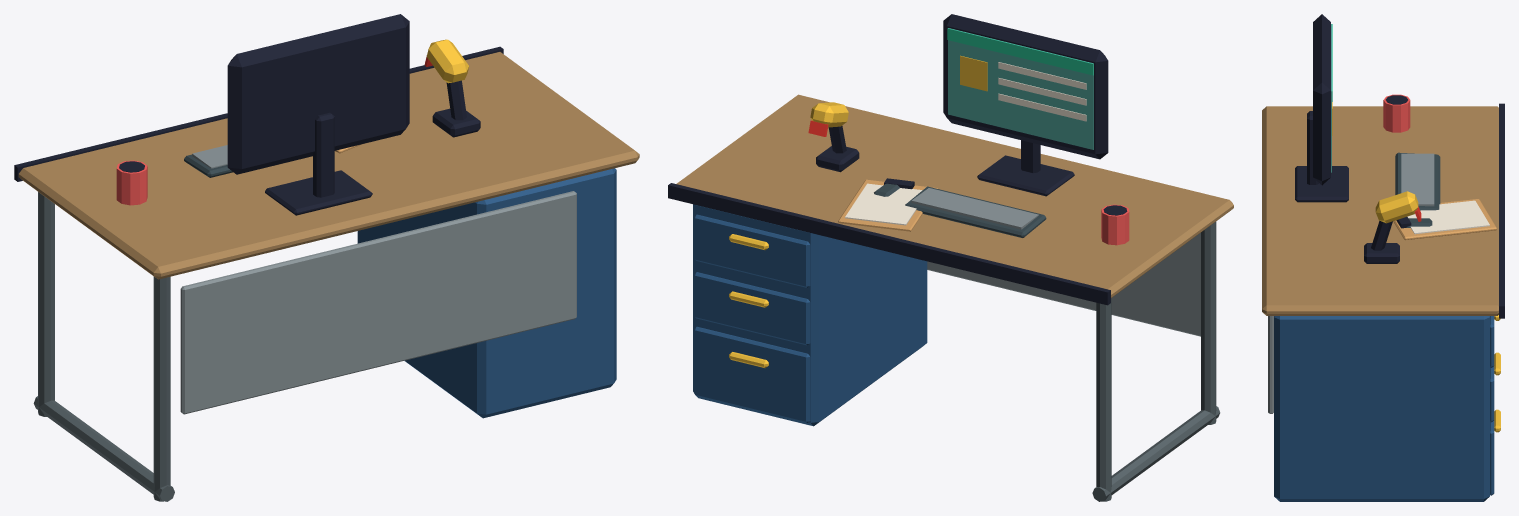
File: sm_env_depot_dispatch_desk.glb
The picture shows the model from 3 angles, left to right: view 1: azimuth 30°, elevation 25°; view 2: azimuth 150°, elevation 25°; view 3: azimuth 270°, elevation 25°; orthographic projection. The views are drawn at different scales.
Parts seen in each view (by area): view 1: Top, ModestyPanel, Pedestal, MonitorHousing, Leg.001, Leg, LegFoot, MonitorFoot, MonitorNeck, TopEdge, ScannerHead, Mug (+1 smaller); view 2: Top, Pedestal, Screen, Drawer.002, TopEdge, ModestyPanel, MonitorHousing, Drawer, Drawer.001, Leg.001, Leg, LegFoot (+13 smaller); view 3: Pedestal, Top, MonitorHousing, ClipSheet, Keys, MonitorFoot, TopEdge, ScannerHead, Clipboard, Mug, Keyboard, Cradle (+4 smaller).
Boxes of the visible parts, x1,y1,x2,y2 form: Top: [18, 52, 639, 279]; ModestyPanel: [180, 191, 576, 414]; Pedestal: [357, 168, 616, 418]; MonitorHousing: [227, 14, 409, 174]; Leg.001: [153, 276, 170, 501]; Leg: [38, 192, 54, 416]; LegFoot: [33, 396, 174, 501]; MonitorFoot: [265, 170, 372, 215]; MonitorNeck: [313, 112, 334, 197]; TopEdge: [14, 46, 503, 181]; ScannerHead: [426, 39, 469, 83]; Mug: [116, 160, 147, 205]; Top: [676, 94, 1233, 297]; Pedestal: [693, 204, 927, 426]; Screen: [948, 28, 1093, 149]; Drawer.002: [694, 326, 810, 422]; TopEdge: [668, 183, 1110, 305]; ModestyPanel: [927, 233, 1200, 336]; MonitorHousing: [943, 14, 1108, 159]; Drawer: [694, 214, 810, 287]; Drawer.001: [694, 272, 810, 345]; Leg.001: [1201, 221, 1216, 424]; Leg: [1096, 298, 1111, 501]; LegFoot: [1092, 406, 1220, 501]; Pedestal: [1274, 316, 1489, 501]; Top: [1262, 106, 1498, 315]; MonitorHousing: [1313, 14, 1330, 185]; ClipSheet: [1407, 200, 1489, 234]; Keys: [1401, 153, 1434, 206]; MonitorFoot: [1295, 166, 1348, 202]; TopEdge: [1499, 103, 1504, 318]; ScannerHead: [1375, 191, 1418, 223]; Clipboard: [1393, 199, 1496, 240]; Mug: [1383, 94, 1410, 132]; Keyboard: [1395, 152, 1440, 210]; Cradle: [1364, 243, 1399, 263].
Size of the model in its own units: 1.6 by 1.27 by 0.81.
